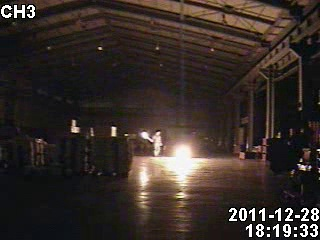fire: (170, 140, 198, 161), (140, 129, 152, 144)
